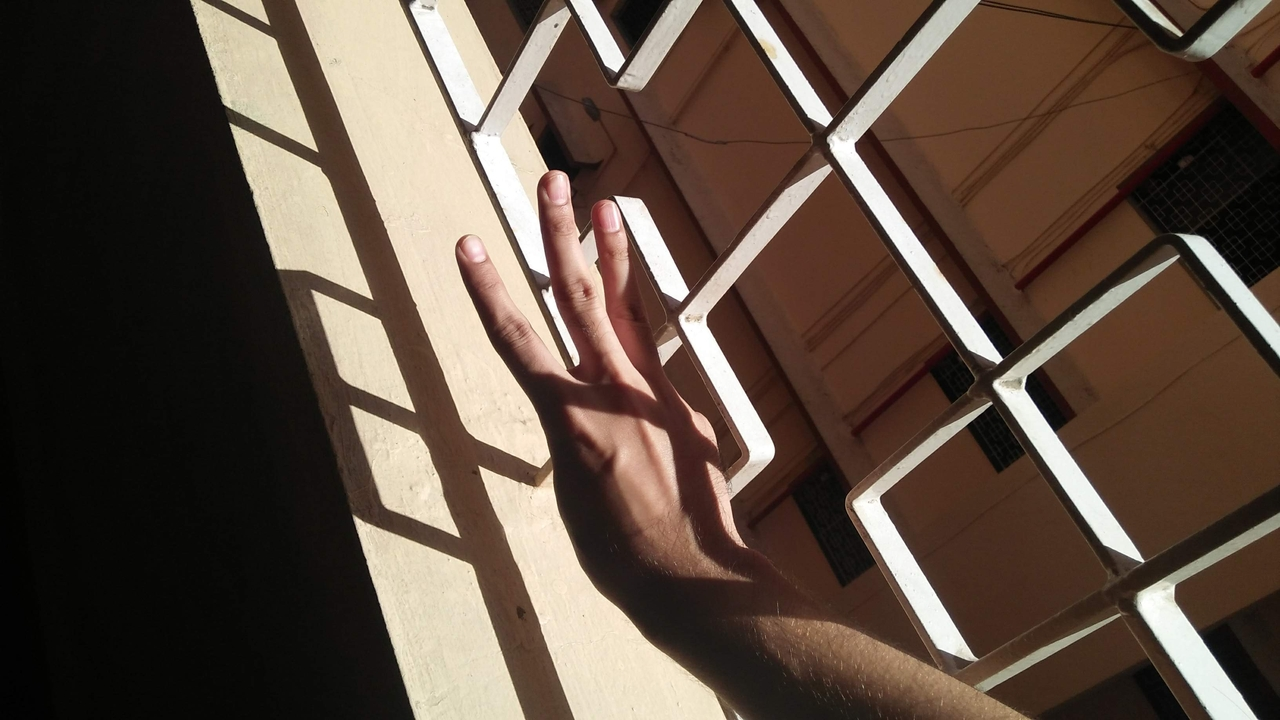fingertip: (444, 220, 494, 274), (528, 160, 578, 208), (588, 201, 624, 238)
